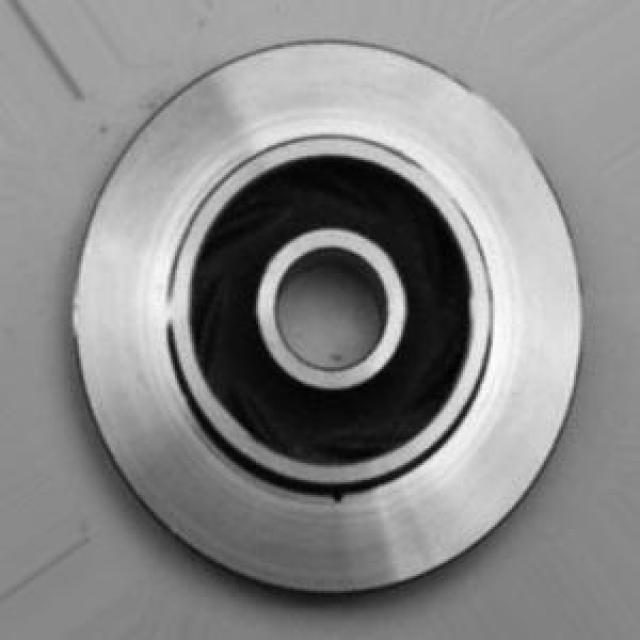Defect: (314, 481, 371, 515)
